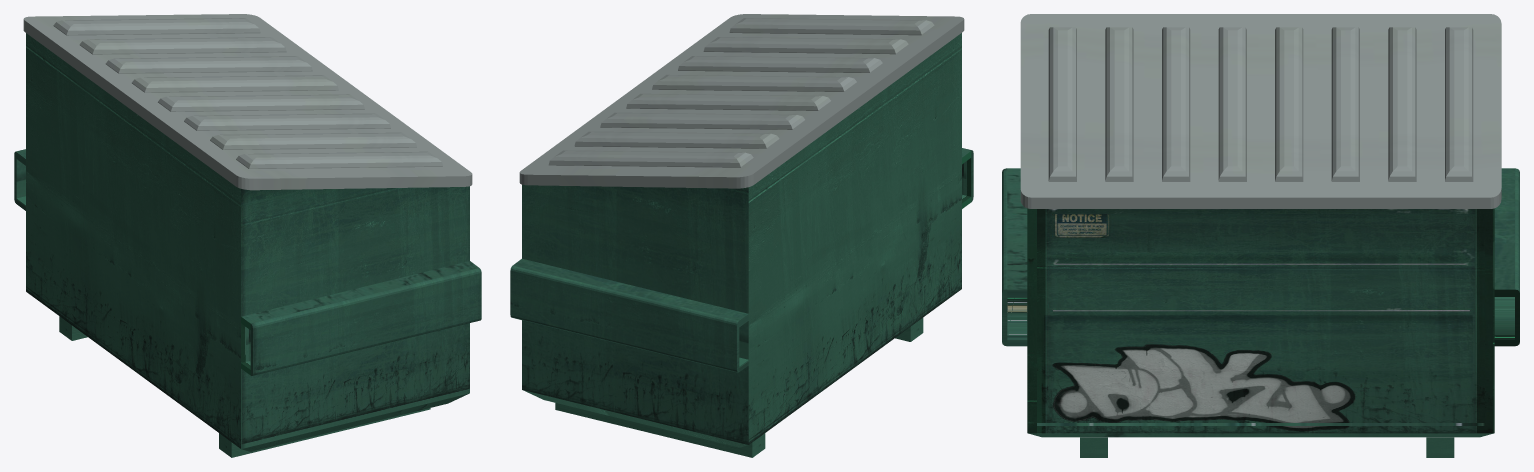
File: basurero.gltf
3 renders of one model, left to right at view 1: azimuth 30°, elevation 25°; view 2: azimuth 150°, elevation 25°; view 3: azimuth 270°, elevation 25°, orthographic. The views are drawn at different scales.
Parts seen in each view (by area): view 1: Cube.005, Cube.004; view 2: Cube.005, Cube.004; view 3: Cube.005, Cube.004.
Boxes of the visible parts, x1=… form: Cube.005: x1=14, y1=33, x2=481, y2=457; Cube.004: x1=23, y1=14, x2=472, y2=190; Cube.005: x1=510, y1=33, x2=973, y2=457; Cube.004: x1=519, y1=14, x2=964, y2=188; Cube.005: x1=1002, y1=168, x2=1519, y2=457; Cube.004: x1=1020, y1=14, x2=1501, y2=208.
Size of the model in its own units: 2.17 by 2.68 by 3.81.
Materials: 1 (1 with a texture image).
